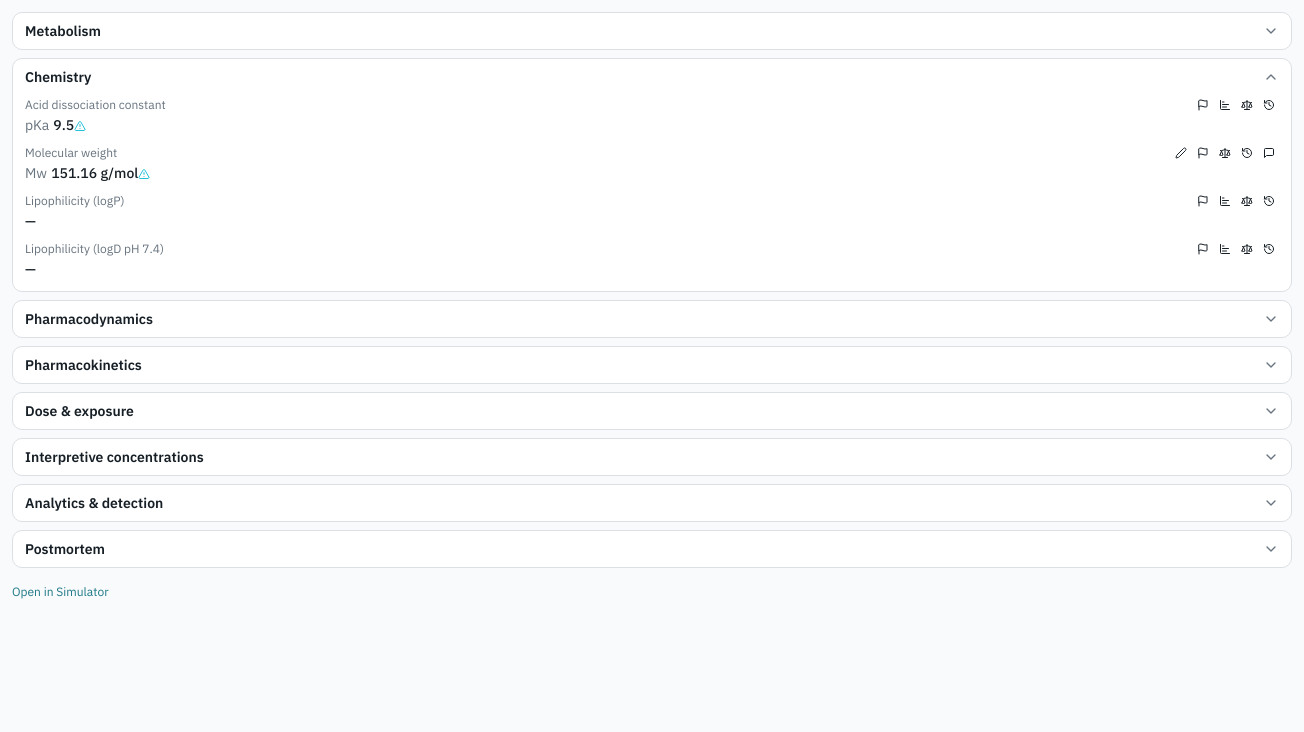
Test: DrugMonographSidebar › shows method-derived reporting limits in the analytics & detection section
Click the button "Analytics & detection": [94, 503] box [13,485,1291,521]
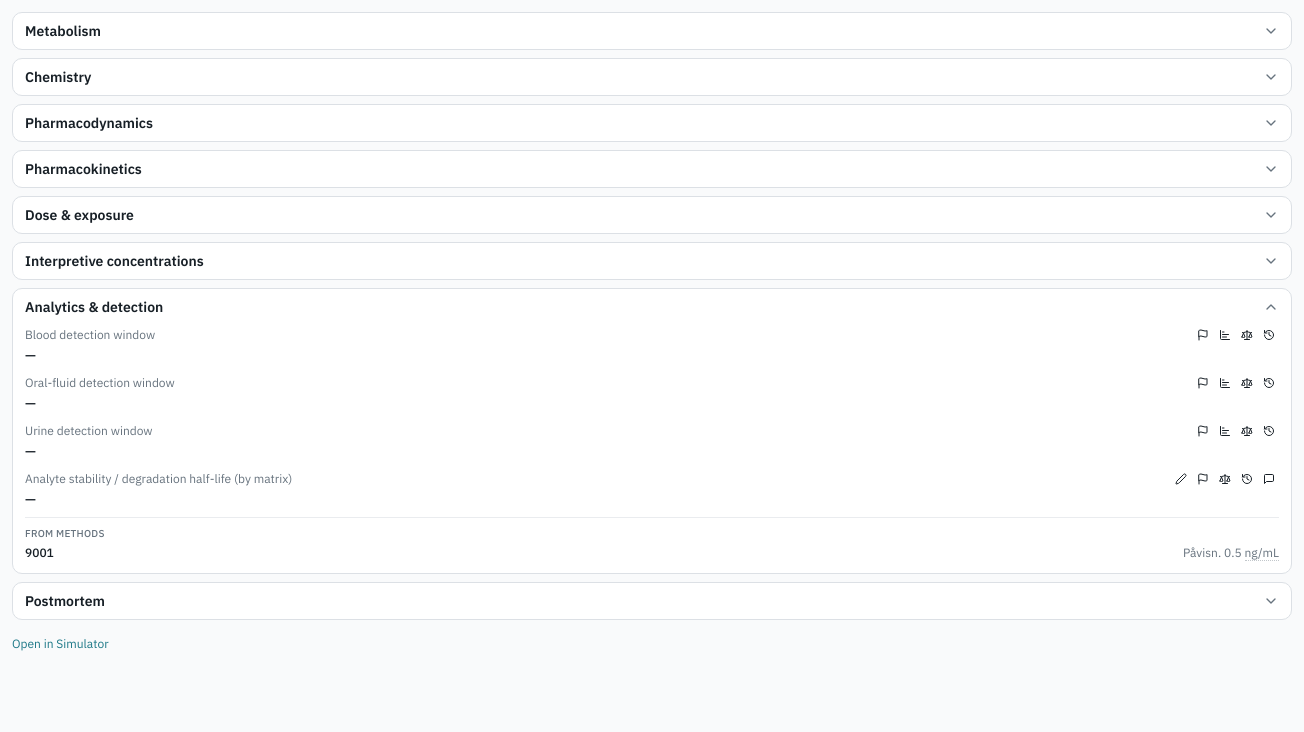
expect the list item "9001" shows "Påvisn. 0.5 ng/mL": met, box [25,545,1279,561]
